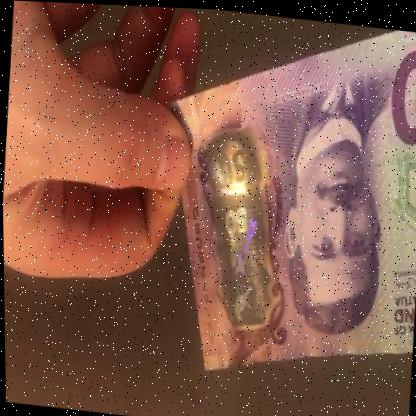50F: (205, 141, 278, 328)
